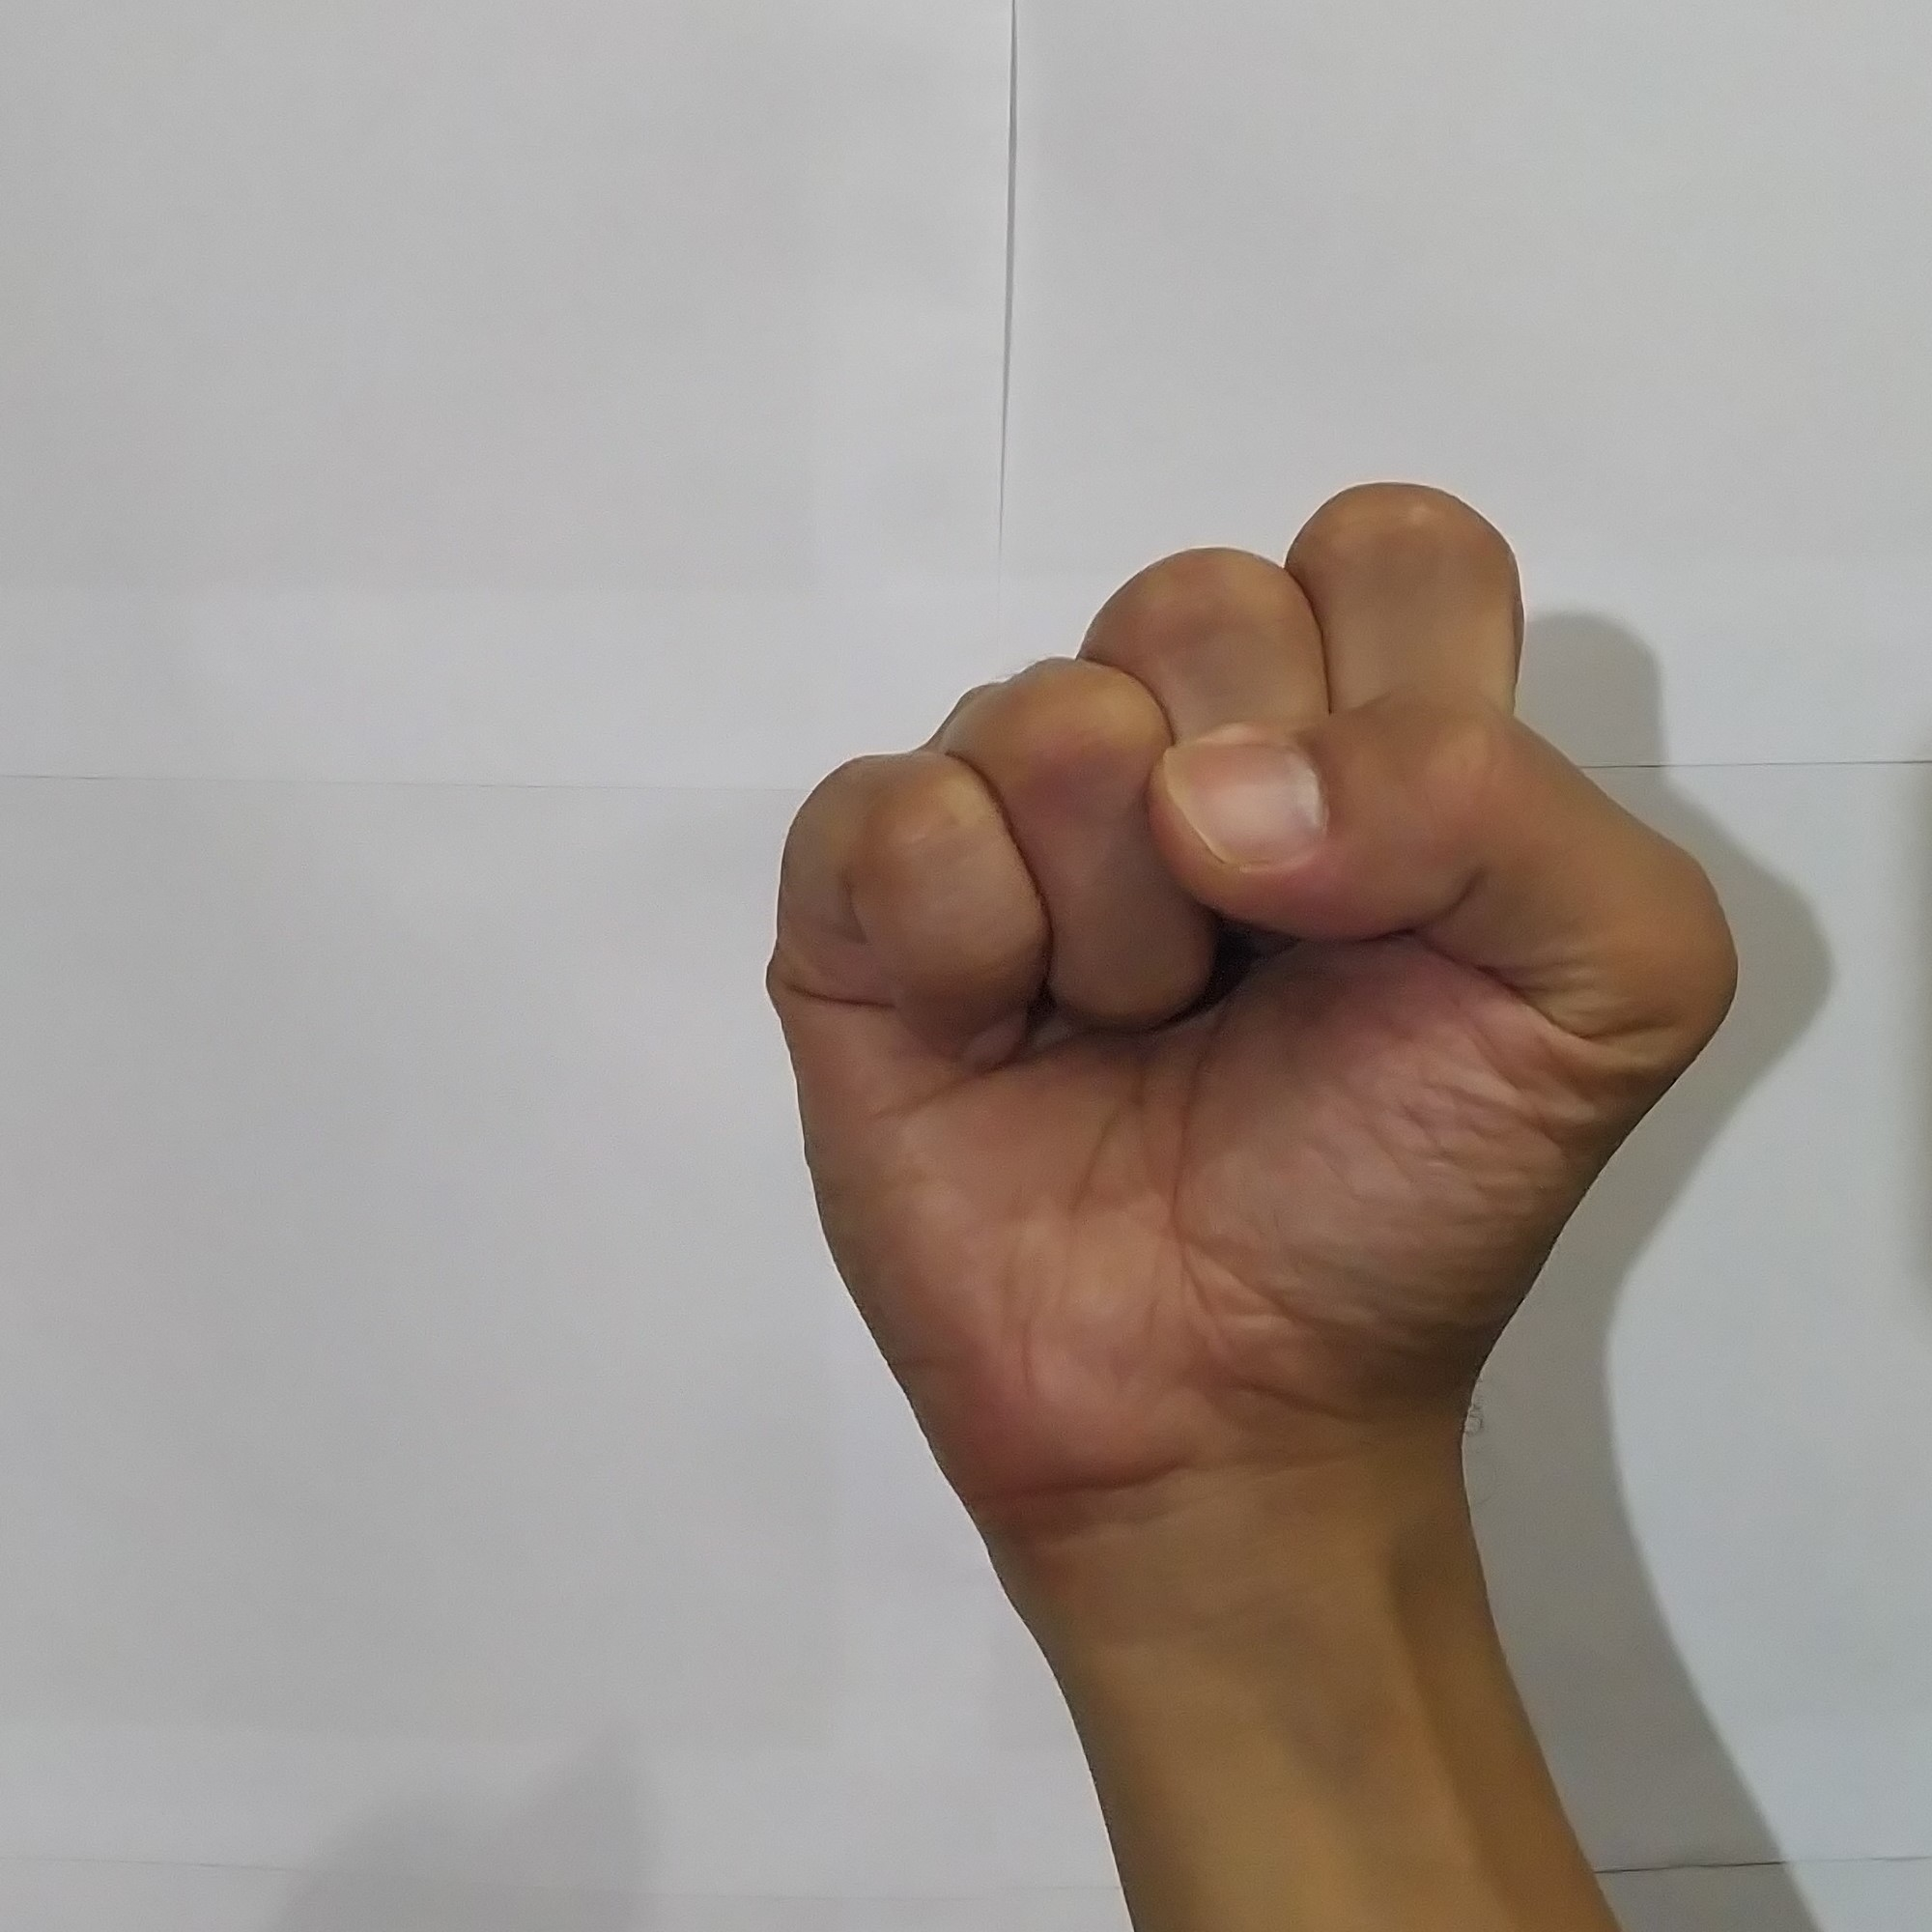S: (732, 456, 1759, 1467)
